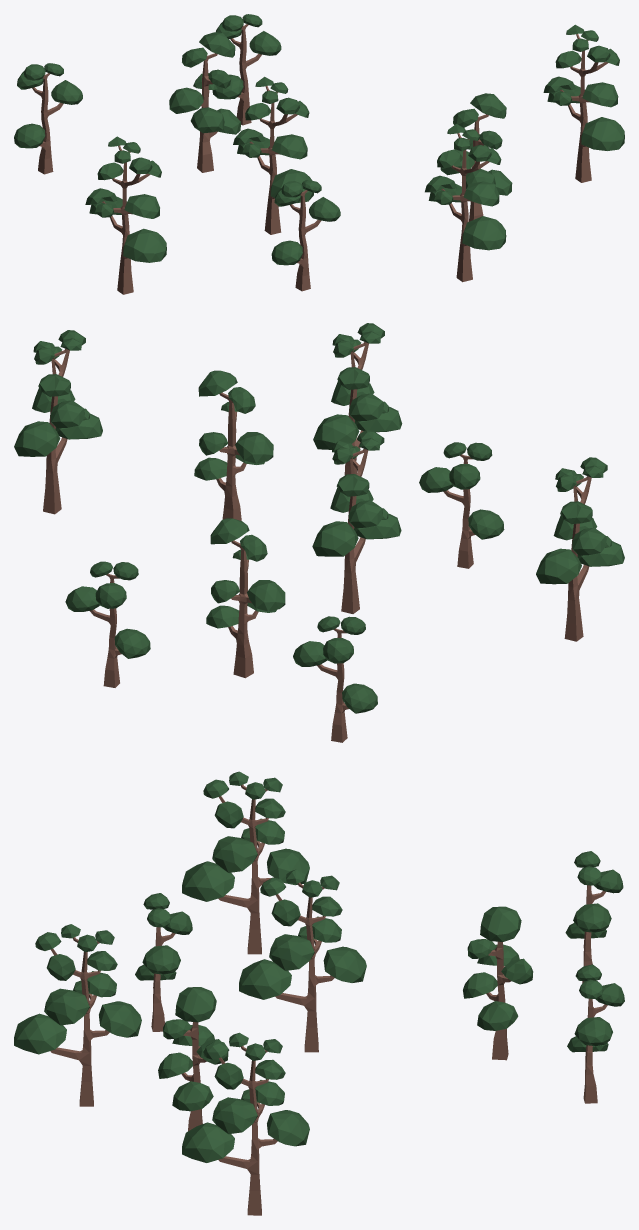
Rendered from trees2.glb.
3 views of the same model, one above another, from view 1: azimuth 30°, elevation 25°; view 2: azimuth 150°, elevation 25°; view 3: azimuth 270°, elevation 25° (orthographic). The views are drawn at different scales.
Parts seen in each view (by area): view 1: Tree6_1, Tree6_1.002, Tree6_1.001, Tree6_1.003, Tree6_2, Tree6_3.002, Tree6_3, Tree6_2.001, Tree6_3.001; view 2: Tree6_1.002, Tree6_1.003, Tree6_1.001, Tree6_2, Tree6_1, Tree6_2.001, Tree6_3, Tree6_3.002, Tree6_3.001; view 3: Tree6_1.003, Tree6_1.002, Tree6_1, Tree6_1.001, Tree6_2, Tree6_2.001, Tree6_3.001, Tree6_3, Tree6_3.002.
Boxes of the visible parts, x1,y1,x2,y2 form: Tree6_1: (425,124,506,282); Tree6_1.002: (543,24,624,182); Tree6_1.001: (85,136,166,294); Tree6_1.003: (233,76,313,234); Tree6_2: (169,32,240,172); Tree6_3.002: (14,63,82,174); Tree6_3: (271,180,340,291); Tree6_2.001: (440,93,512,221); Tree6_3.001: (212,14,281,125); Tree6_1.002: (14,330,102,514); Tree6_1.003: (312,430,401,613); Tree6_1.001: (536,457,624,641); Tree6_2: (206,518,285,678); Tree6_1: (313,323,402,475); Tree6_2.001: (194,370,273,520); Tree6_3: (419,442,504,568); Tree6_3.002: (293,616,377,742); Tree6_3.001: (65,561,150,687); Tree6_1.003: (239,869,366,1052); Tree6_1.002: (182,1032,309,1215); Tree6_1: (14,924,141,1106); Tree6_1.001: (182,771,309,954); Tree6_2: (463,906,533,1060); Tree6_2.001: (158,987,228,1131); Tree6_3.001: (567,964,624,1103); Tree6_3: (135,893,192,1031); Tree6_3.002: (565,851,623,983).
Bounding box in the file's own units: 41.95 × 11.55 × 36.87.
